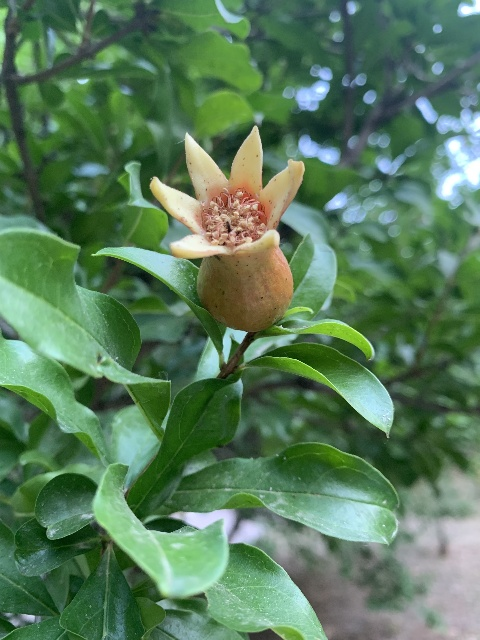early-fruit: (150, 125, 305, 333)
